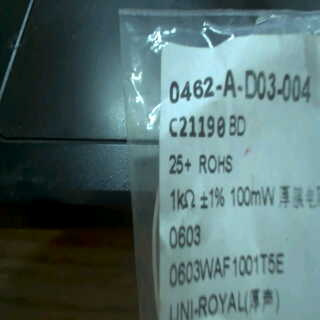1kR: (167, 186, 200, 214)
